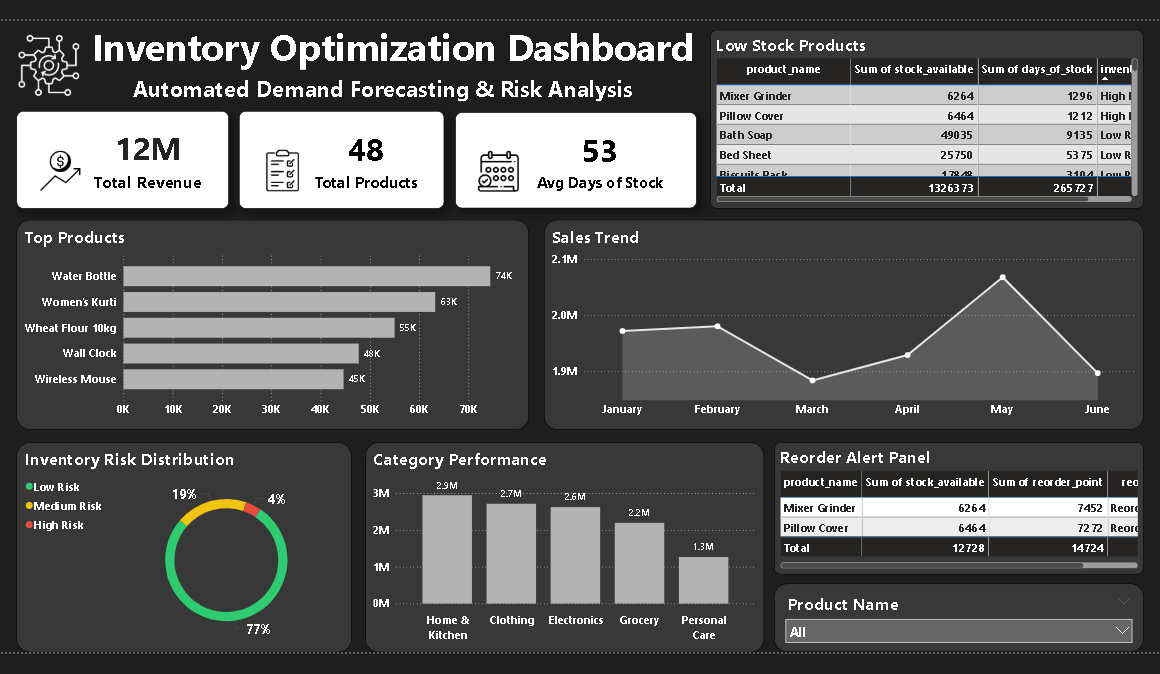

This screenshot's page, from the dashboard's own definition file:
{"tool":"powerbi","page":{"name":"Page 1","canvas":[1700,920],"ordinal":0},"visuals":[{"type":"cardVisual","fields":{"Data":["New Measures.Total Revenue"]},"box":[25.5,131.2,309.8,142.2],"z":0},{"type":"cardVisual","fields":{"Data":["New Measures.Total Products"]},"box":[349.9,131.2,298.9,142.2],"z":1000},{"type":"cardVisual","fields":{"Data":["New Measures.Avg Days of Stock"]},"box":[665.2,133,351.7,140.3],"z":2000},{"type":"donutChart","title":"Inventory Risk Distribution","fields":{"Y":["CountNonNull(final_inventory_analysis.product_ID)"],"Category":["final_inventory_analysis.inventory_risk"]},"box":[25.5,614.2,488.4,306.2],"z":3000},{"type":"tableEx","title":"Low Stock Products","fields":{"Values":["final_inventory_analysis.product_name","Sum(final_inventory_analysis.stock_available)","Sum(final_inventory_analysis.days_of_stock)","final_inventory_analysis.inventory_risk"]},"box":[1037,12.8,632.4,260.6],"z":4000},{"type":"lineChart","title":"Sales Trend","fields":{"Y":["Sum(final_inventory_analysis.revenue)"],"Category":["final_inventory_analysis.date.Variation.Date Hierarchy.Month"]},"box":[794.6,289.8,874.8,306.2],"z":5000},{"type":"clusteredBarChart","title":"Top Products","fields":{"Category":["final_inventory_analysis.product_name"],"Y":["Sum(final_inventory_analysis.total_sales_product)"]},"box":[25.5,289.8,747.2,306.2],"z":6000},{"type":"columnChart","title":"Category Performance","fields":{"Y":["Sum(final_inventory_analysis.revenue)"],"Category":["final_inventory_analysis.category"]},"box":[534,613.8,581.4,306.2],"z":7000},{"type":"textbox","title":"Inventory Optimization Dashboard","box":[102.1,0,914.9,116.6],"z":8000},{"type":"slicer","fields":{"Values":["final_inventory_analysis.product_name"]},"box":[1129.9,820.1,539.5,100.2],"z":9000},{"type":"tableEx","title":"Reorder Alert Panel","fields":{"Values":["final_inventory_analysis.product_name","Sum(final_inventory_analysis.stock_available)","Sum(final_inventory_analysis.reorder_point)","final_inventory_analysis.reorder_flag"]},"box":[1129.9,614.2,539.5,193.2],"z":10000},{"type":"image","box":[25.5,12.8,94.8,103.9],"z":11000}]}

Visuals, with their boxes on the page's 1700x920 design canvas (x1, y1, x2, y2). These are canvas units, not pixel positions in the 1160x674 screenshot, which may show the page scaled, cropped or inside an application window:
cardVisual - New Measures.Total Revenue: select_region(26, 131, 335, 273)
cardVisual - New Measures.Total Products: select_region(350, 131, 649, 273)
cardVisual - New Measures.Avg Days of Stock: select_region(665, 133, 1017, 273)
"Inventory Risk Distribution" donutChart: select_region(26, 614, 514, 920)
"Low Stock Products" tableEx: select_region(1037, 13, 1669, 273)
"Sales Trend" lineChart: select_region(795, 290, 1669, 596)
"Top Products" clusteredBarChart: select_region(26, 290, 773, 596)
"Category Performance" columnChart: select_region(534, 614, 1115, 920)
"Inventory Optimization Dashboard" textbox: select_region(102, 0, 1017, 117)
slicer - final_inventory_analysis.product_name: select_region(1130, 820, 1669, 920)
"Reorder Alert Panel" tableEx: select_region(1130, 614, 1669, 807)
image: select_region(26, 13, 120, 117)
